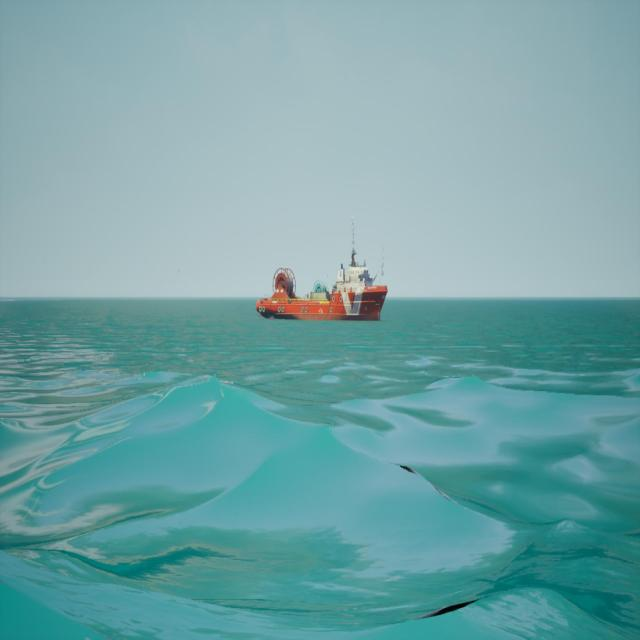tug boat: (259, 217, 389, 324)
